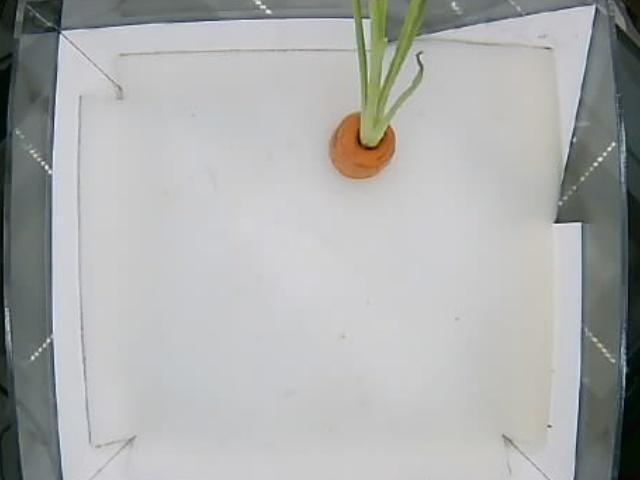Carrot: (325, 68, 405, 181)
